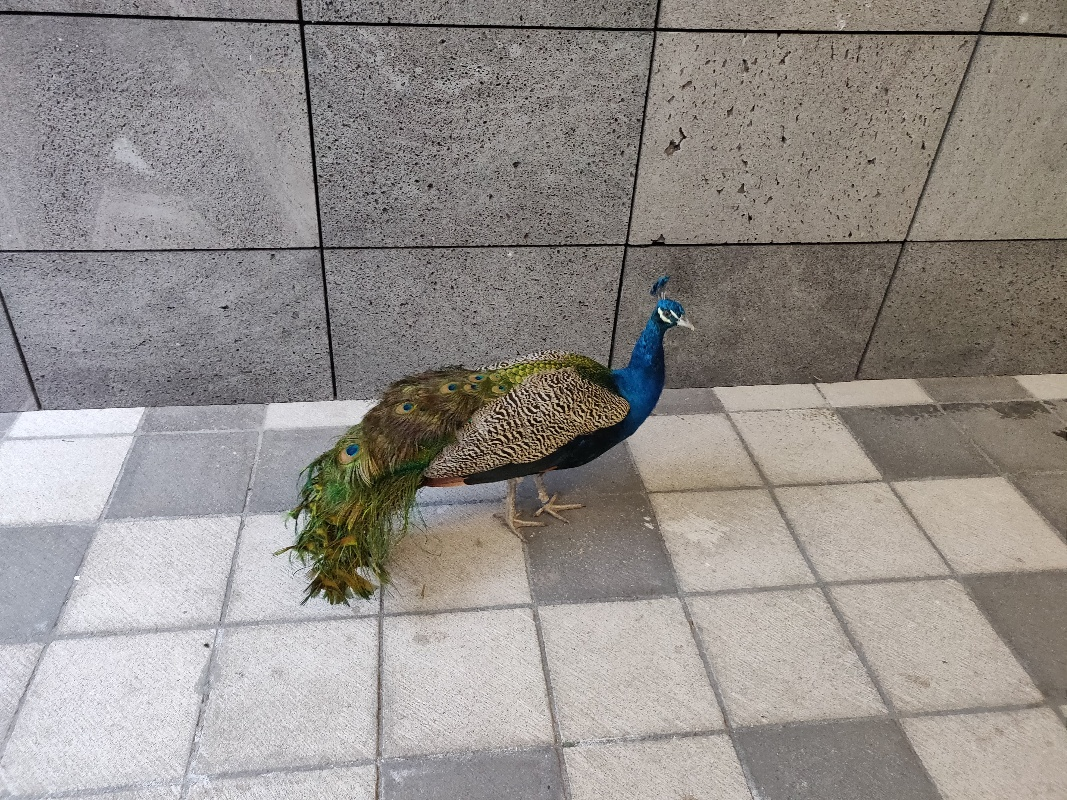pavoreal: (330, 272, 695, 531)
